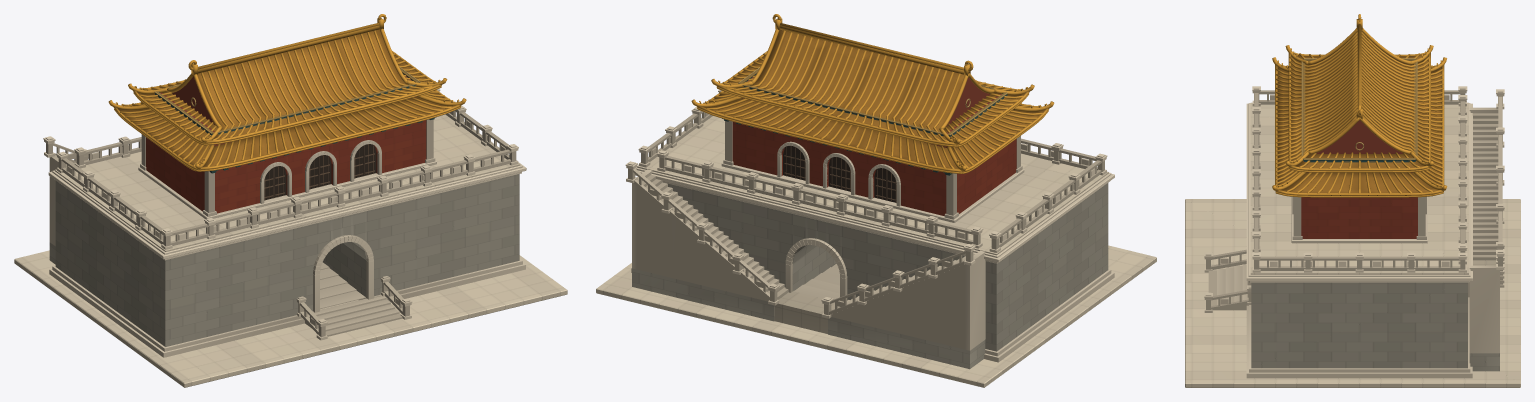
Rendered from mingxiaoling.glb.
3 renders of one model, left to right at view 1: azimuth 30°, elevation 25°; view 2: azimuth 150°, elevation 25°; view 3: azimuth 270°, elevation 25°, orthographic. The views are drawn at different scales.
Visible parts, largest first — view 1: 明孝陵_WEB_建筑; view 2: 明孝陵_WEB_建筑; view 3: 明孝陵_WEB_建筑.
Boxes of the visible parts, box(x1,y1,x2,y2) form: 明孝陵_WEB_建筑: box(14, 14, 567, 387); 明孝陵_WEB_建筑: box(596, 14, 1156, 387); 明孝陵_WEB_建筑: box(1185, 14, 1520, 387).
Size of the model in its own units: 26 by 15.51 by 20.
Materials: 12 (4 with a texture image).
